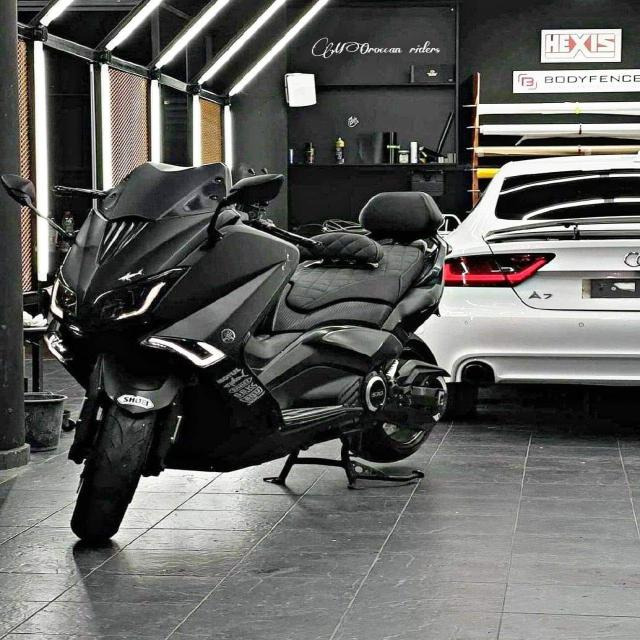Car: (422, 156, 640, 414)
Motorcycle: (44, 163, 446, 542)
